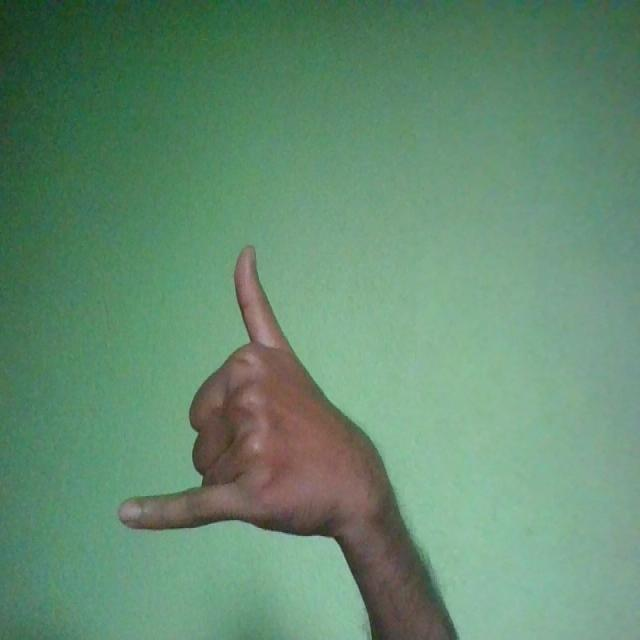Call Me: (117, 242, 398, 537)
